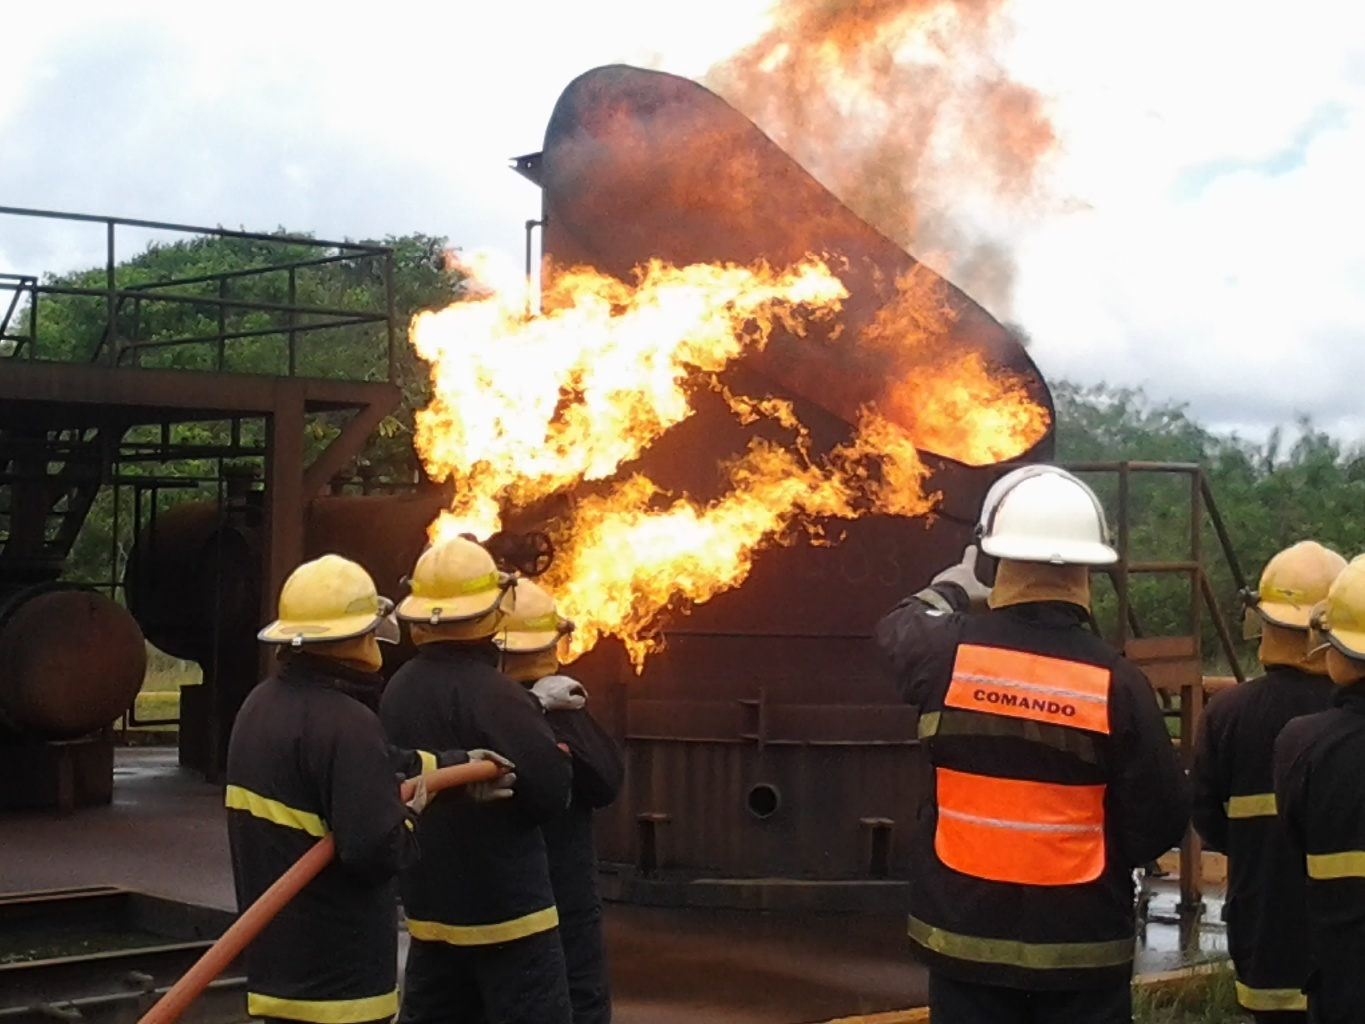fire: (400, 69, 1051, 705)
